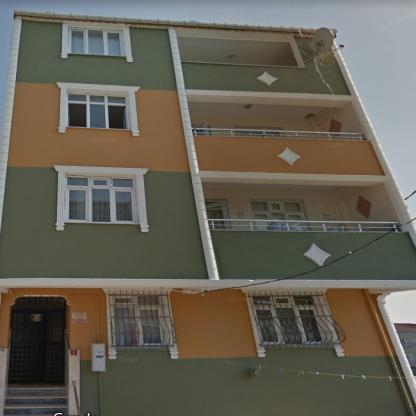door: (9, 296, 69, 384)
window: (253, 295, 333, 346), (68, 179, 138, 224), (115, 299, 166, 348), (67, 96, 127, 127), (253, 200, 304, 228), (68, 29, 121, 54), (207, 202, 228, 229)
